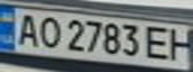2: (63, 16, 87, 53)
3: (121, 21, 145, 59)
7: (81, 18, 106, 54)
8: (103, 20, 124, 56)
A: (12, 11, 42, 47)
E: (142, 24, 175, 61)
H: (166, 25, 193, 63)
O: (33, 14, 63, 50)
